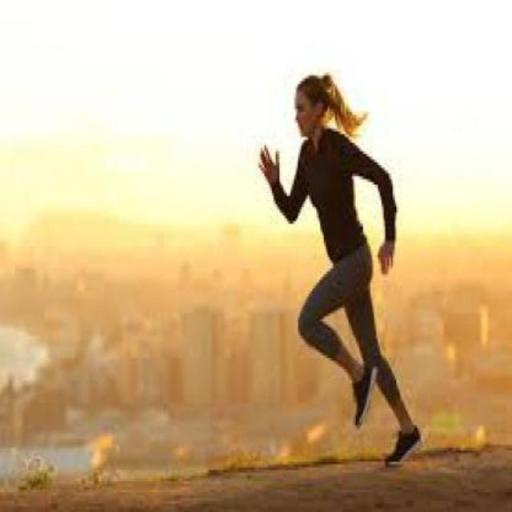Running: (135, 0, 442, 485)
